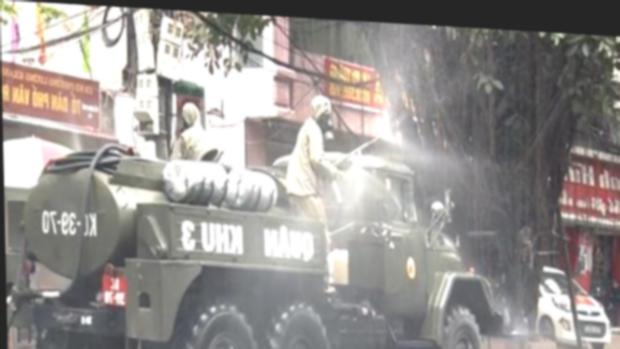License_Plate: (97, 271, 132, 308)
